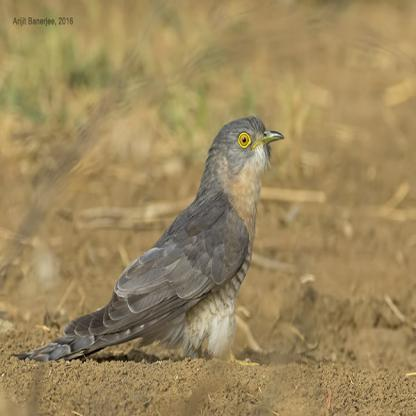Burung: (14, 115, 284, 366)
